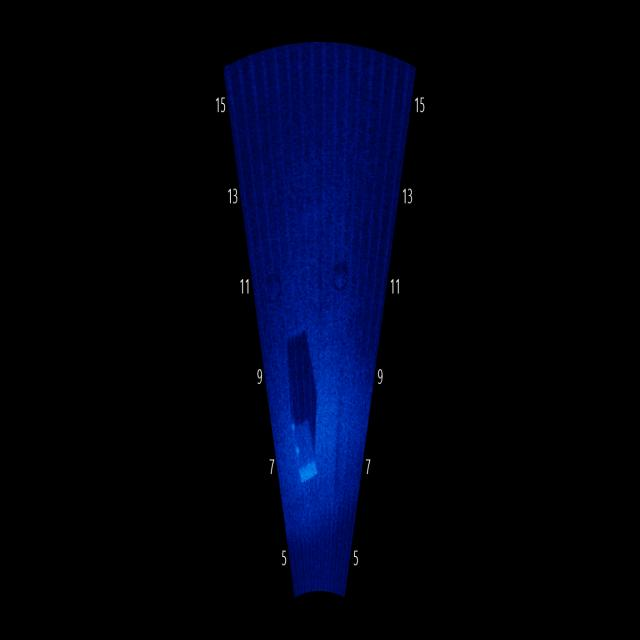square: (283, 406, 325, 505)
